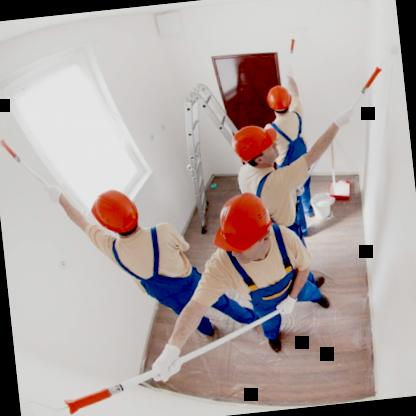helmet: (208, 182, 280, 278), (81, 178, 152, 256), (226, 118, 288, 180), (258, 78, 300, 125)
